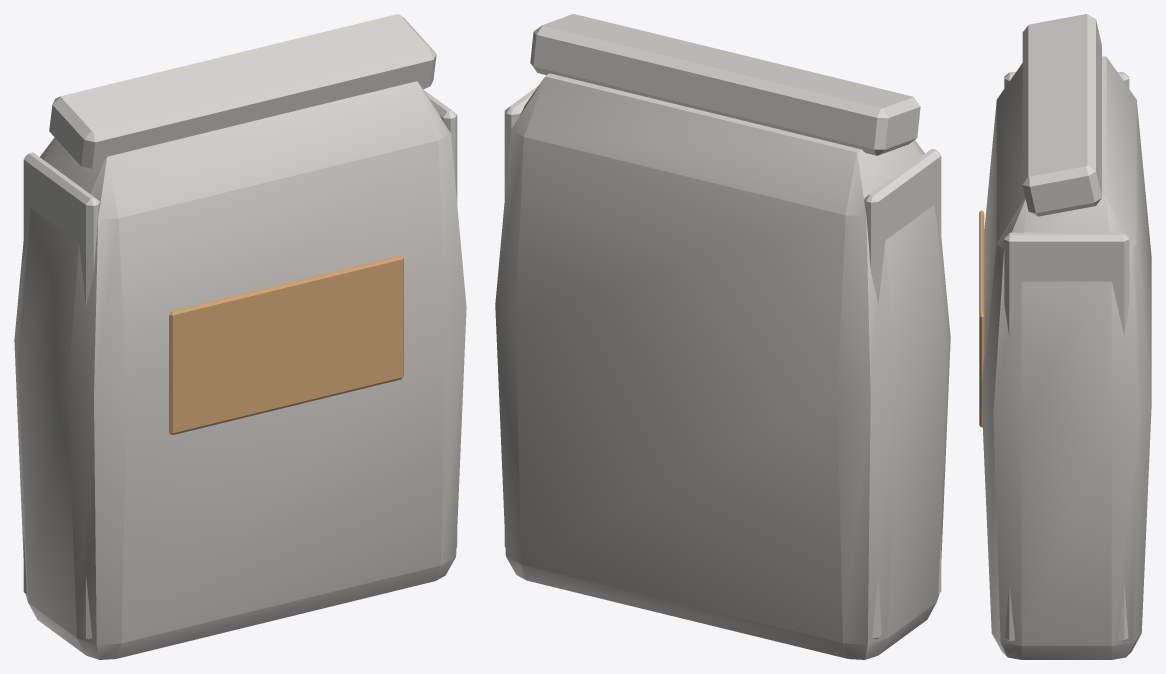
File: bakery-and-cafe-paper-bag-pastry-d803dcf8__22237.glb
The picture shows the model from 3 angles, left to right: view 1: azimuth 30°, elevation 25°; view 2: azimuth 150°, elevation 25°; view 3: azimuth 270°, elevation 25°; orthographic projection. The views are drawn at different scales.
Parts seen in each view (by area): view 1: paper-bag-pastry; view 2: paper-bag-pastry; view 3: paper-bag-pastry.
Part boxes in pixels (x1,y1,x2,y2): paper-bag-pastry: (14, 14, 466, 659); paper-bag-pastry: (495, 14, 950, 659); paper-bag-pastry: (979, 14, 1151, 659).
Bounding box in the file's own units: 0.168 × 0.216 × 0.069.
